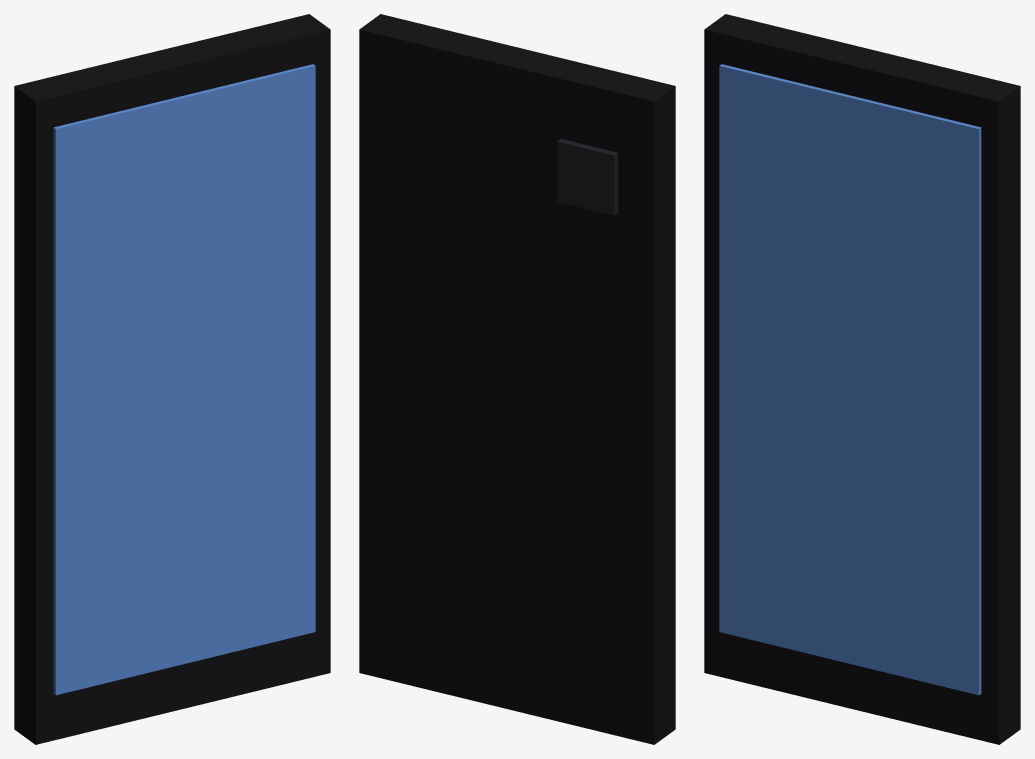
The model's file is phone.glb.
3 renders of one model, left to right at view 1: azimuth 30°, elevation 25°; view 2: azimuth 150°, elevation 25°; view 3: azimuth 330°, elevation 25°, orthographic.
Visible parts, largest first — view 1: phone; view 2: phone; view 3: phone.
Part boxes in pixels (left/top/right/bottom): phone: left=14, top=14, right=330, bottom=744; phone: left=359, top=14, right=675, bottom=744; phone: left=704, top=14, right=1020, bottom=744.
Bounding box in the file's own units: 0.072 × 0.15 × 0.0117.
